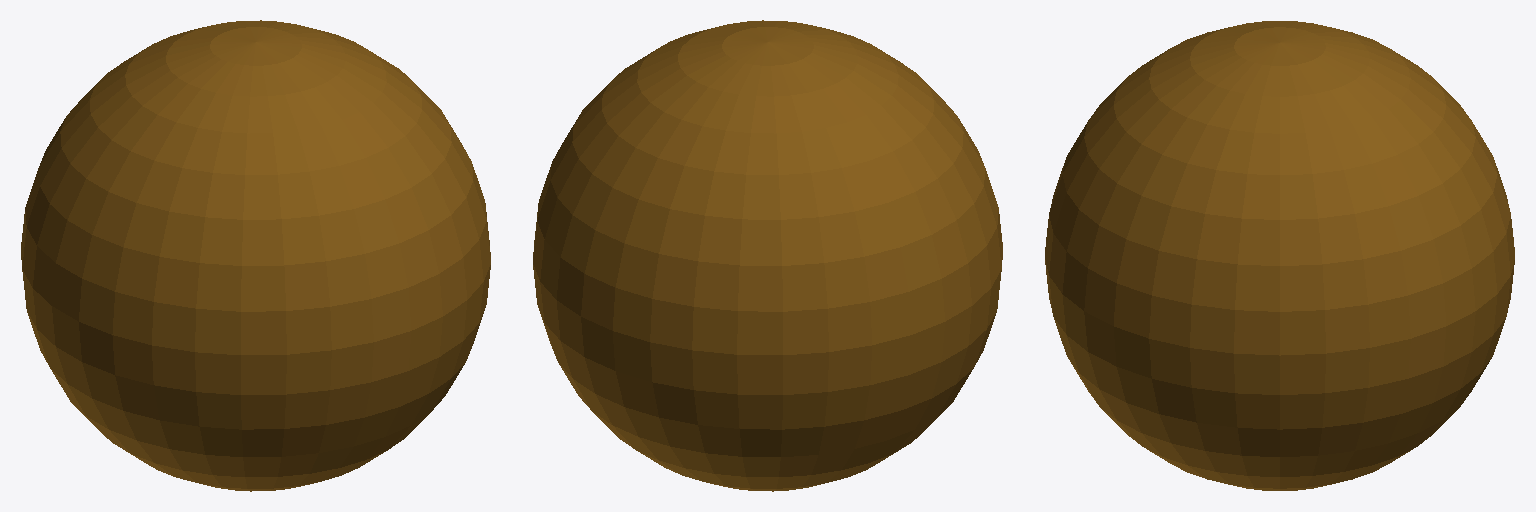
URDF robot description (sphere):
<?xml version="1.0"?>
<robot name="sphere">
  <material name="red">
    <color rgba="0.55 0.4 0.15 0.5"/>
  </material>

  <link name="base_link">
  <visual>
    <geometry>
      <sphere radius="0.015"/>
    </geometry>
    <material name="red"/>
  </visual>

  </link>
</robot>

--- Render facts (derived) ---
3 views of the same robot in one strip: view 1: azimuth 30°, elevation 25°; view 2: azimuth 150°, elevation 25°; view 3: azimuth 270°, elevation 25° (orthographic).
Robot: sphere — 1 links, 0 joints (none); root link base_link; default pose: every joint at zero.
Links seen in each view (by area): view 1: base_link; view 2: base_link; view 3: base_link.
Boxes of the visible links, box(x1,y1,x2,y2) form: base_link: box(21, 20, 490, 491); base_link: box(533, 20, 1002, 491); base_link: box(1045, 21, 1514, 490).
Size in the robot's own frame: 0.03 by 0.03 by 0.03 metres.
Geometry: primitives only (box / cylinder / sphere), no mesh files.